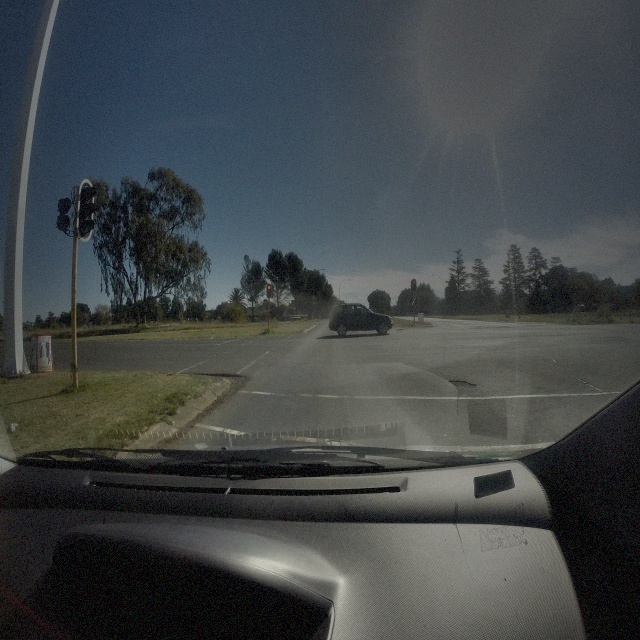pothole: (447, 377, 477, 390), (550, 355, 557, 365)
